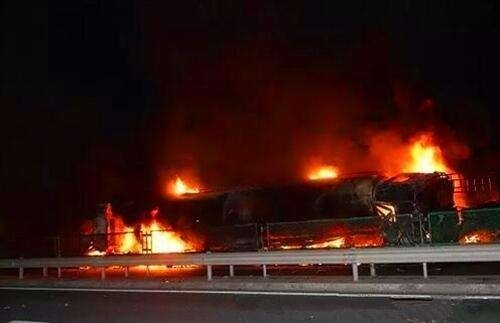fire: (97, 207, 193, 253), (401, 136, 452, 174), (167, 172, 202, 195), (305, 161, 341, 182)
